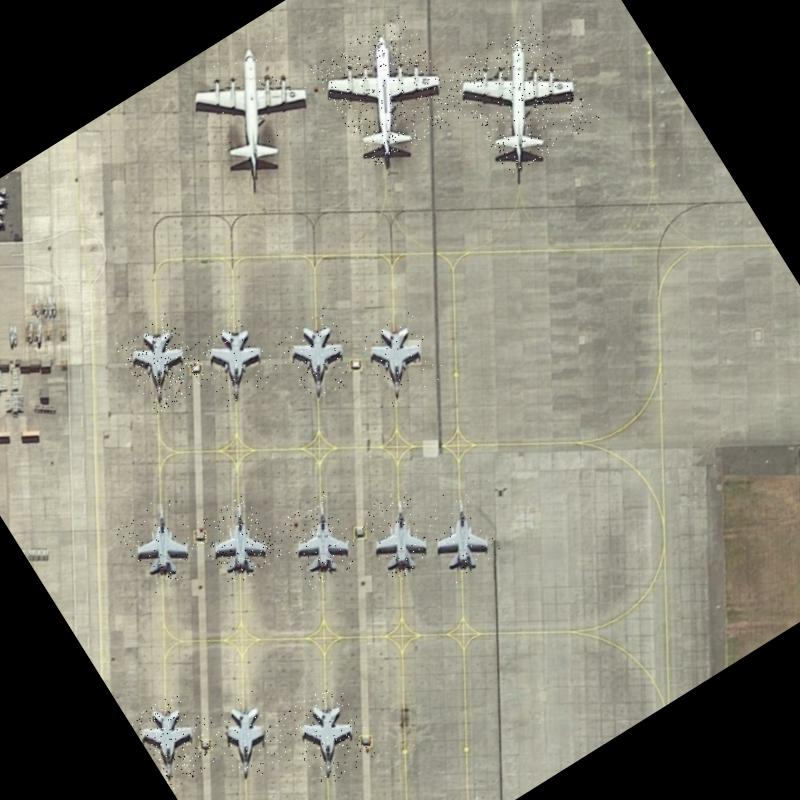A16: (277, 680, 381, 790), (195, 682, 297, 790), (112, 490, 212, 595), (114, 311, 210, 415), (411, 484, 506, 588), (353, 308, 451, 408), (271, 491, 367, 592), (270, 306, 366, 406), (187, 309, 283, 408), (191, 492, 285, 590), (352, 484, 444, 584), (130, 690, 220, 790)
A9: (310, 10, 468, 172), (444, 14, 601, 176), (182, 28, 334, 186)
